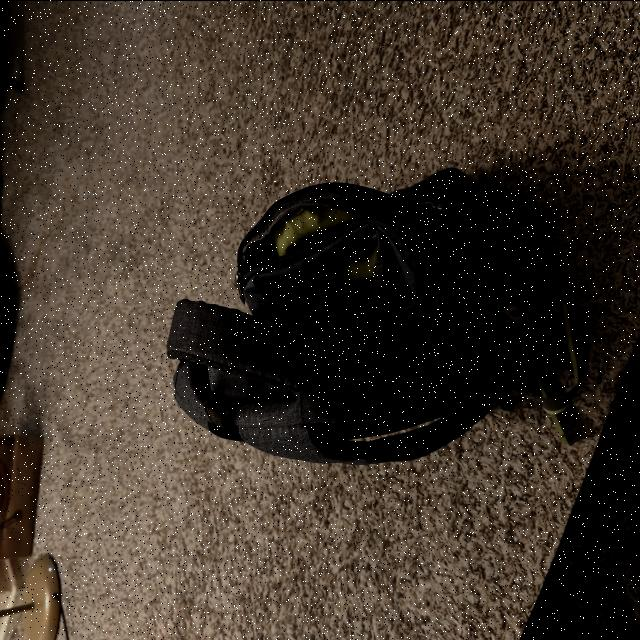bag: (173, 172, 537, 448)
